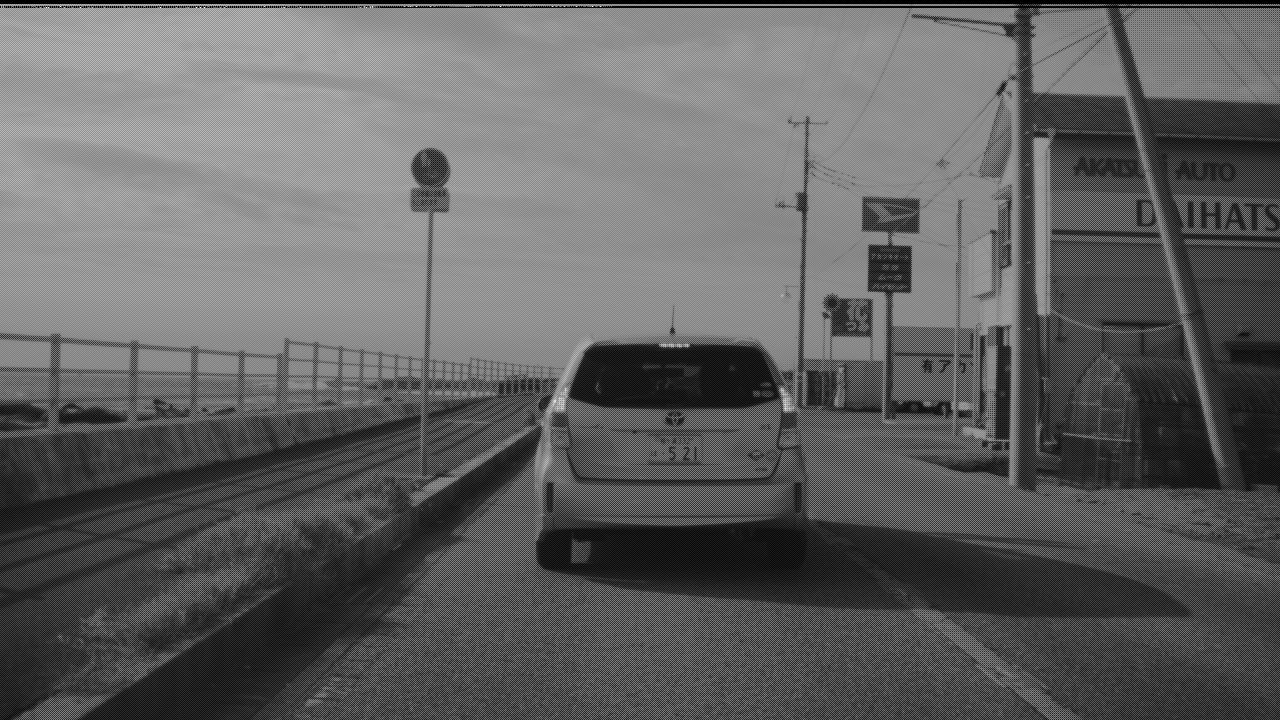pole: (1098, 1, 1255, 485), (1008, 1, 1035, 481), (793, 116, 809, 397), (950, 190, 963, 428), (882, 284, 892, 409)
